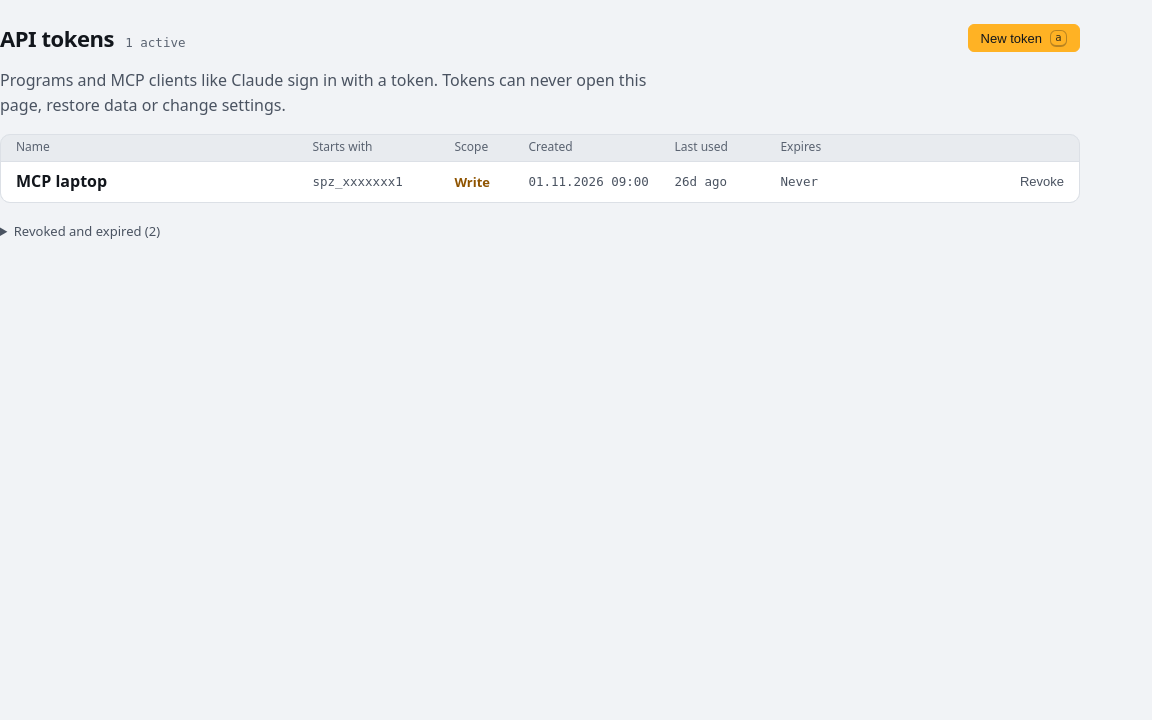
Scenario: token page › shows the raw value once after create and keeps it out of every cache
Later steps or results of the test are not shown.
expect the text "MCP laptop" is shown: met, box [16,170,107,192]
Click the button "New token a".
click(1024, 38)  # box [968,24,1080,52]
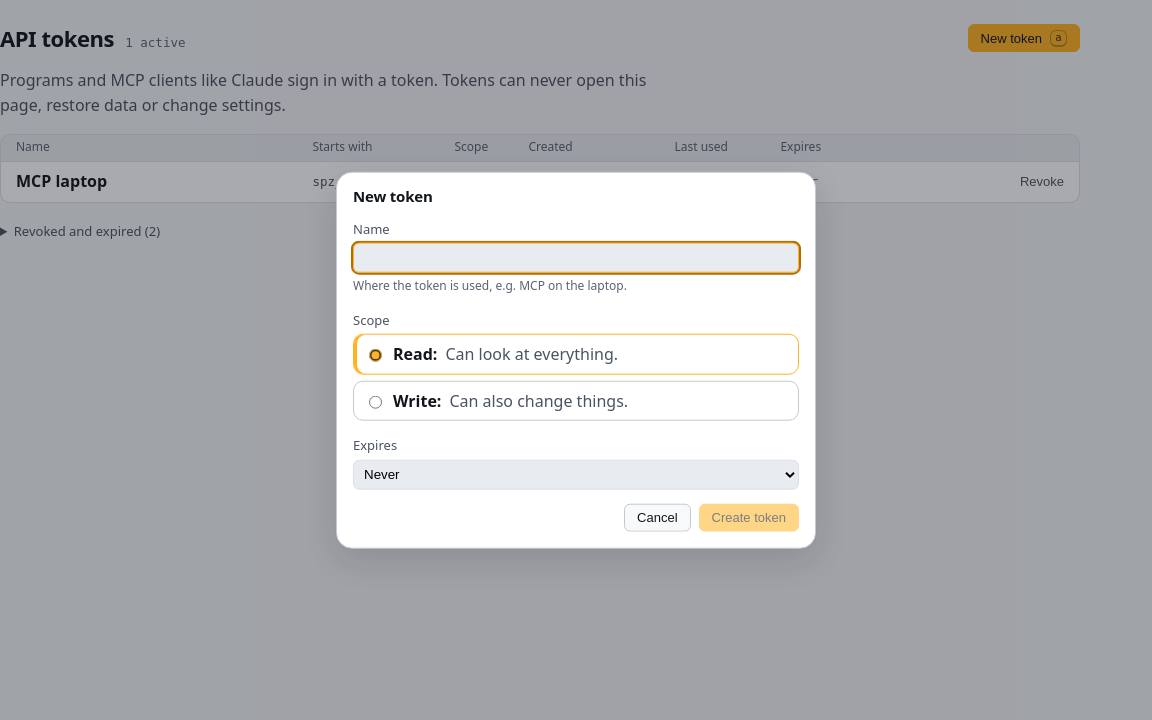
Type "Backup job" into the field labelled "Name Where the token is used, e.g. MCP on the laptop.".
click(576, 258); type("Backup job")  # box [353,243,799,273]
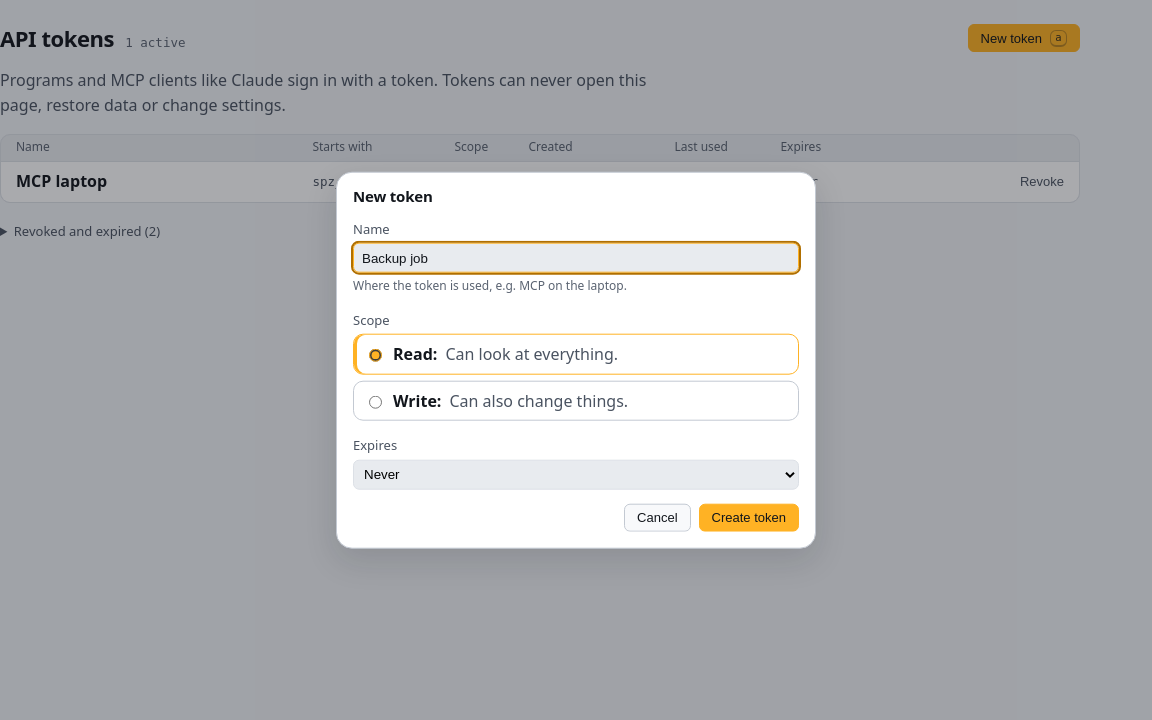
Click the radio button labelled "Write: Can also change things.".
click(376, 402)  # box [369,396,382,409]
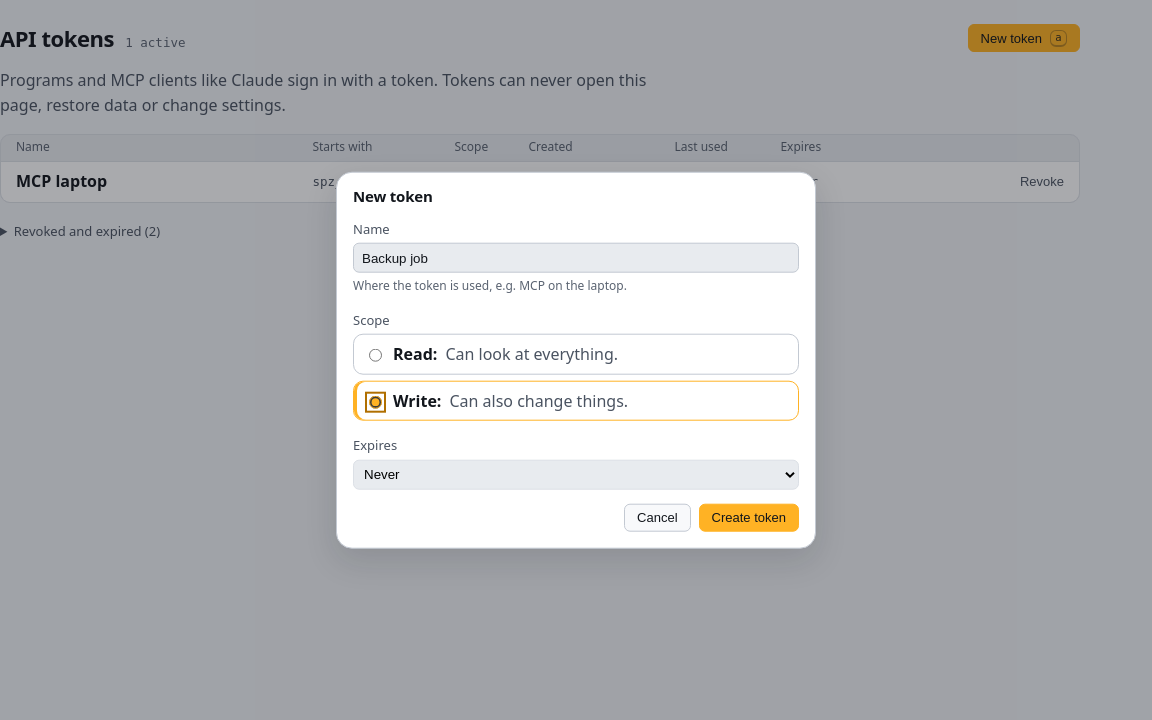
Select "In 30 days" in the dropdown labelled "Expires" at (576, 474), box [353,459,799,489]
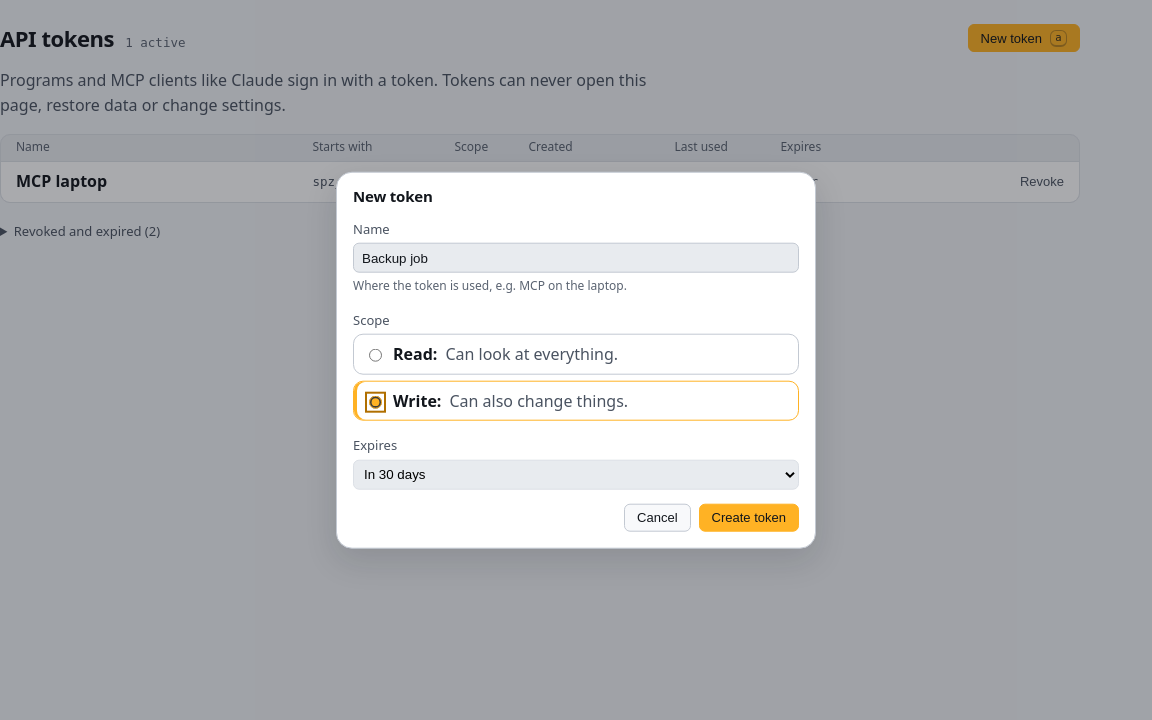
Click the button "Create token".
click(749, 517)  # box [699,503,799,531]
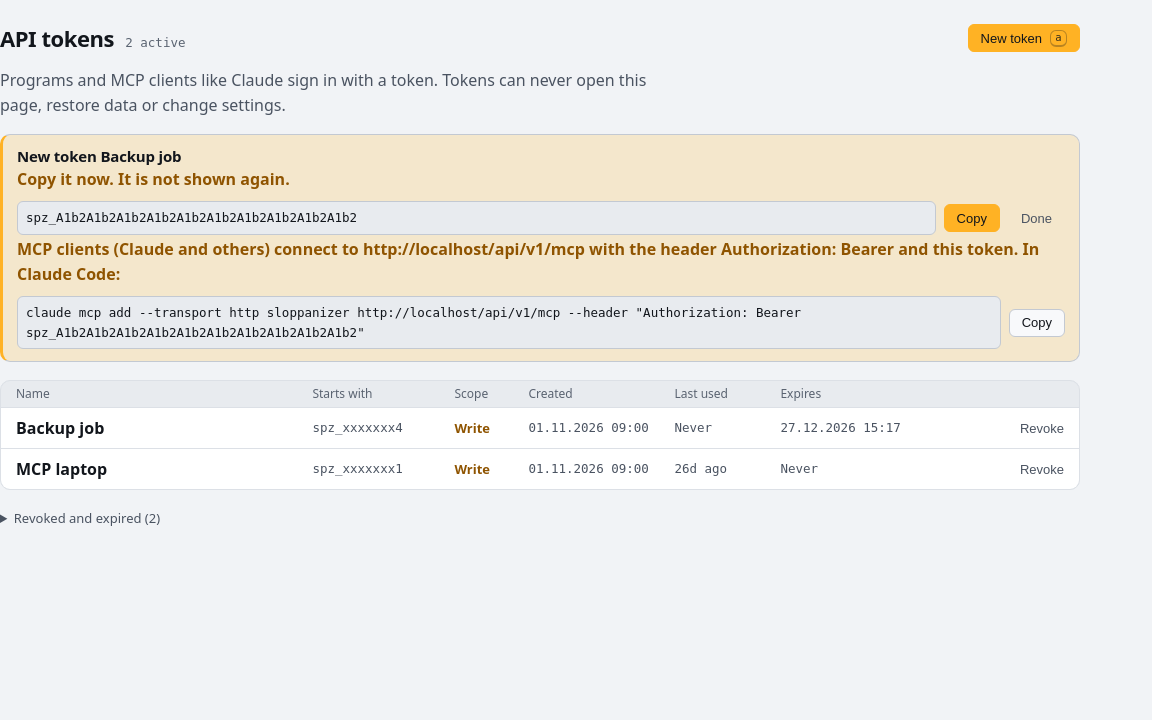
expect the text "Copy it now. It is not shown again." is shown: met, box [17,168,290,190]
expect the text "Backup job" is shown: met, box [16,417,104,439]
